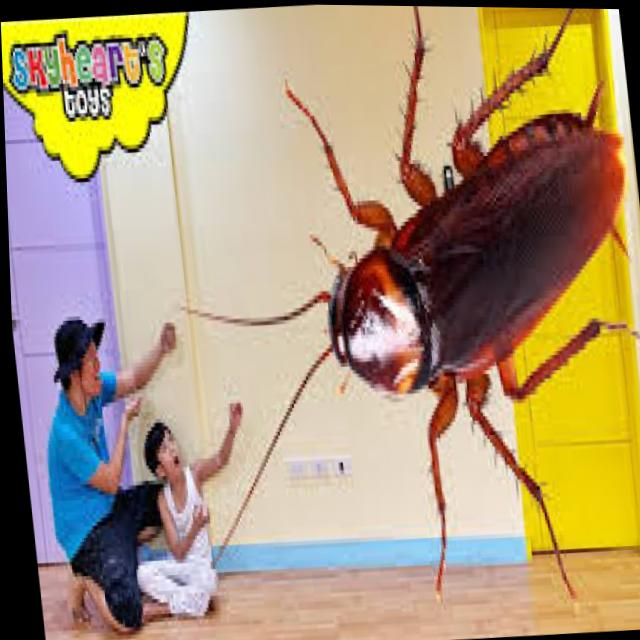Cockroach: (191, 2, 640, 573)
